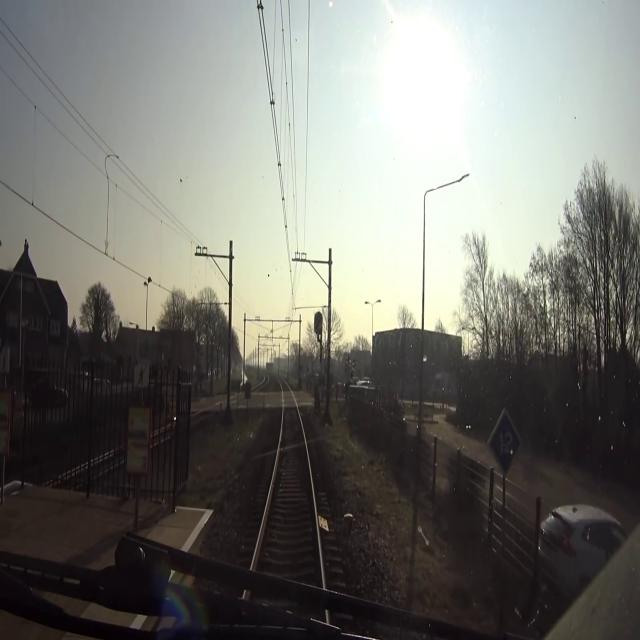rail-track: (253, 384, 321, 591)
